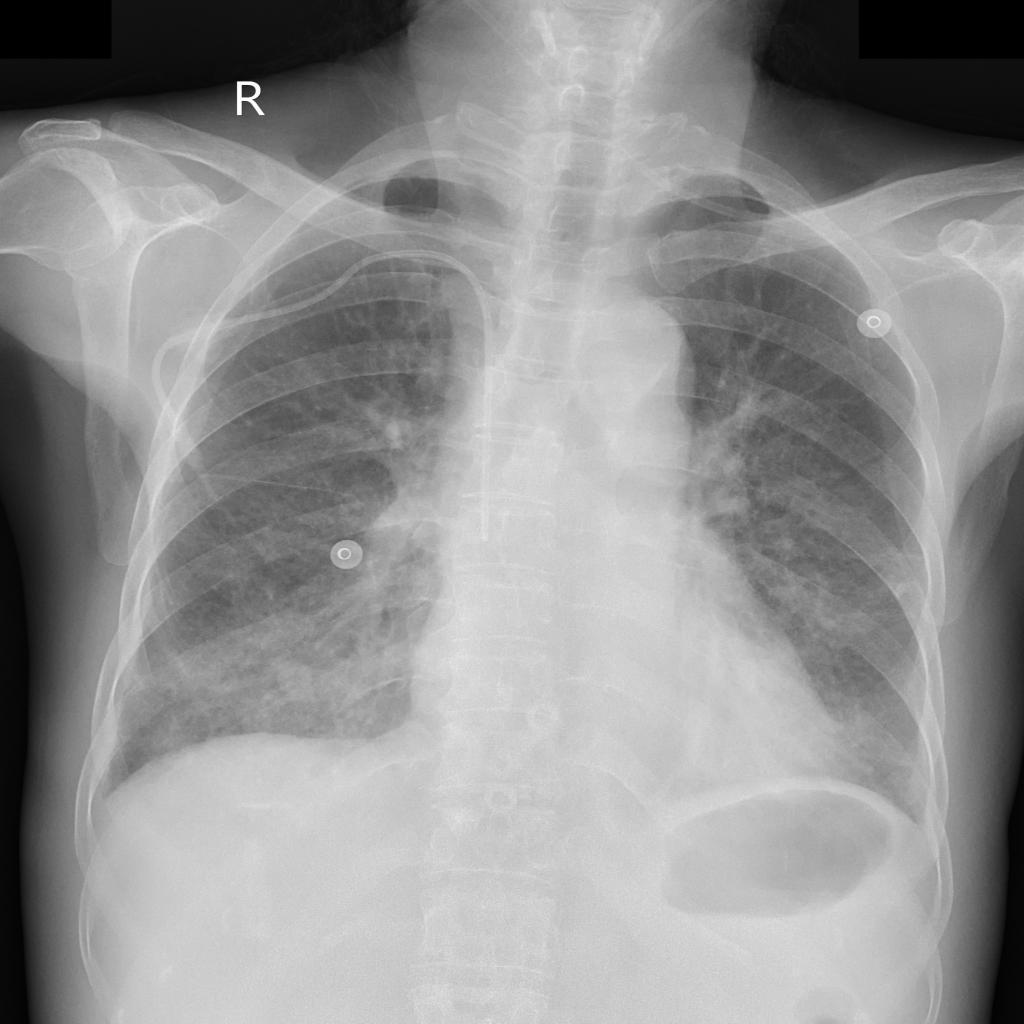Nodule: (281, 660, 322, 698)
